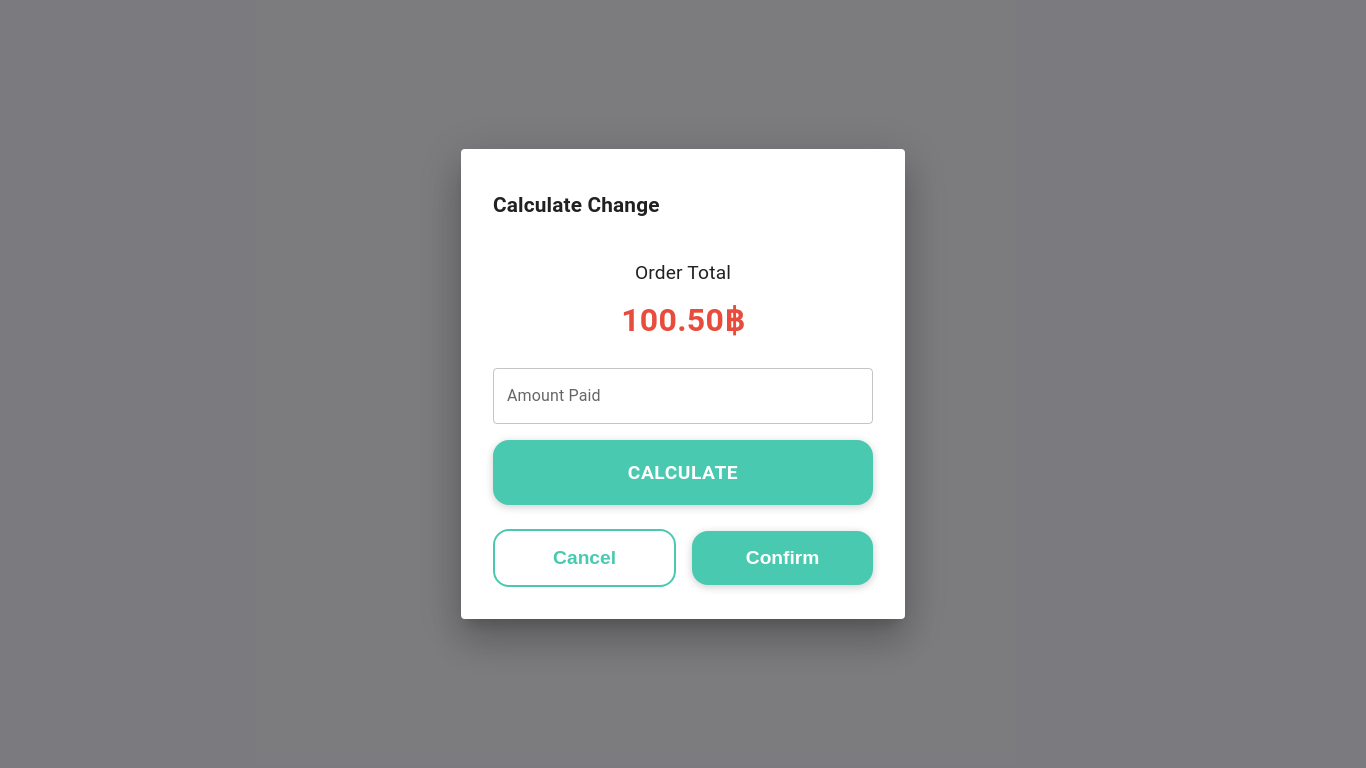
Test: CalculateChange Component › recalculates change when amount paid changes
First calculation
Type "200" into the number field labelled "Amount Paid" at (683, 396), box [493,368,873,424]
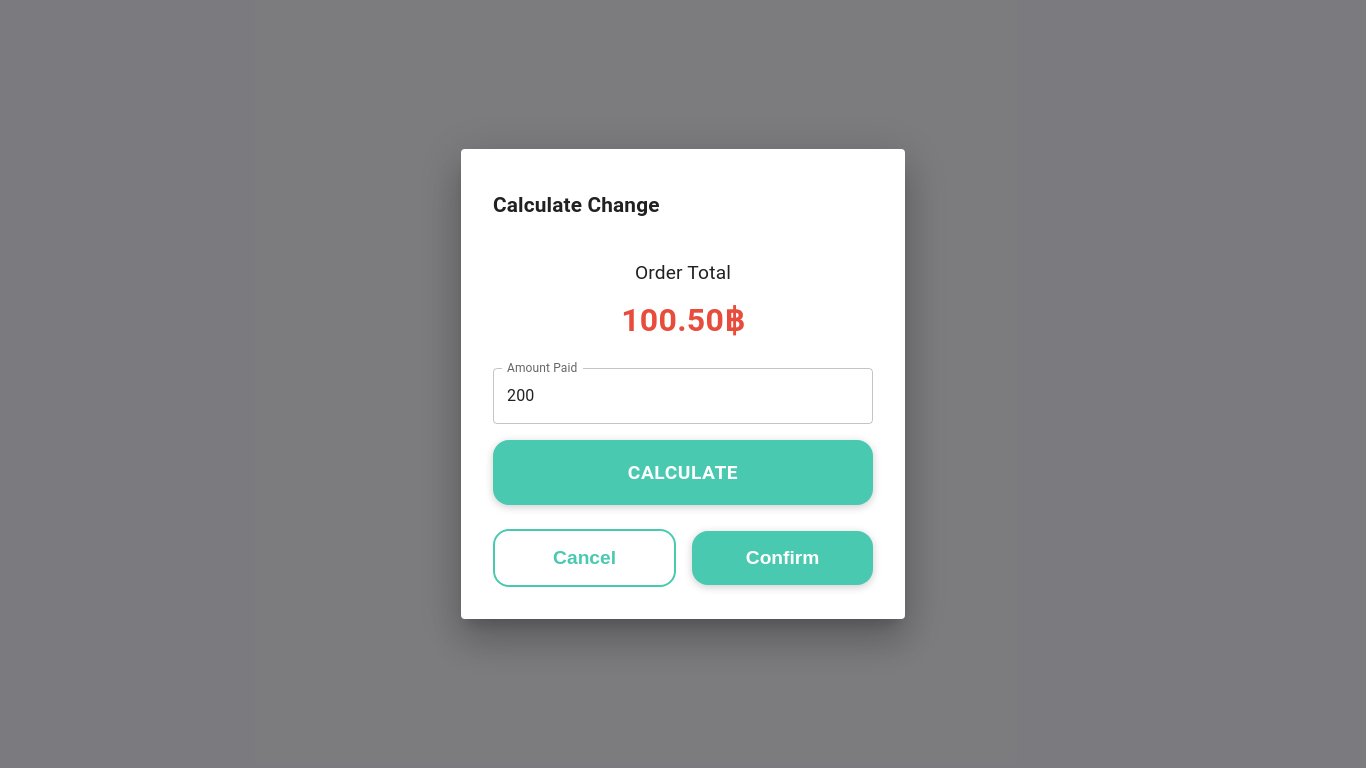
Click the button "Calculate" at (683, 472), box [493,440,873,505]
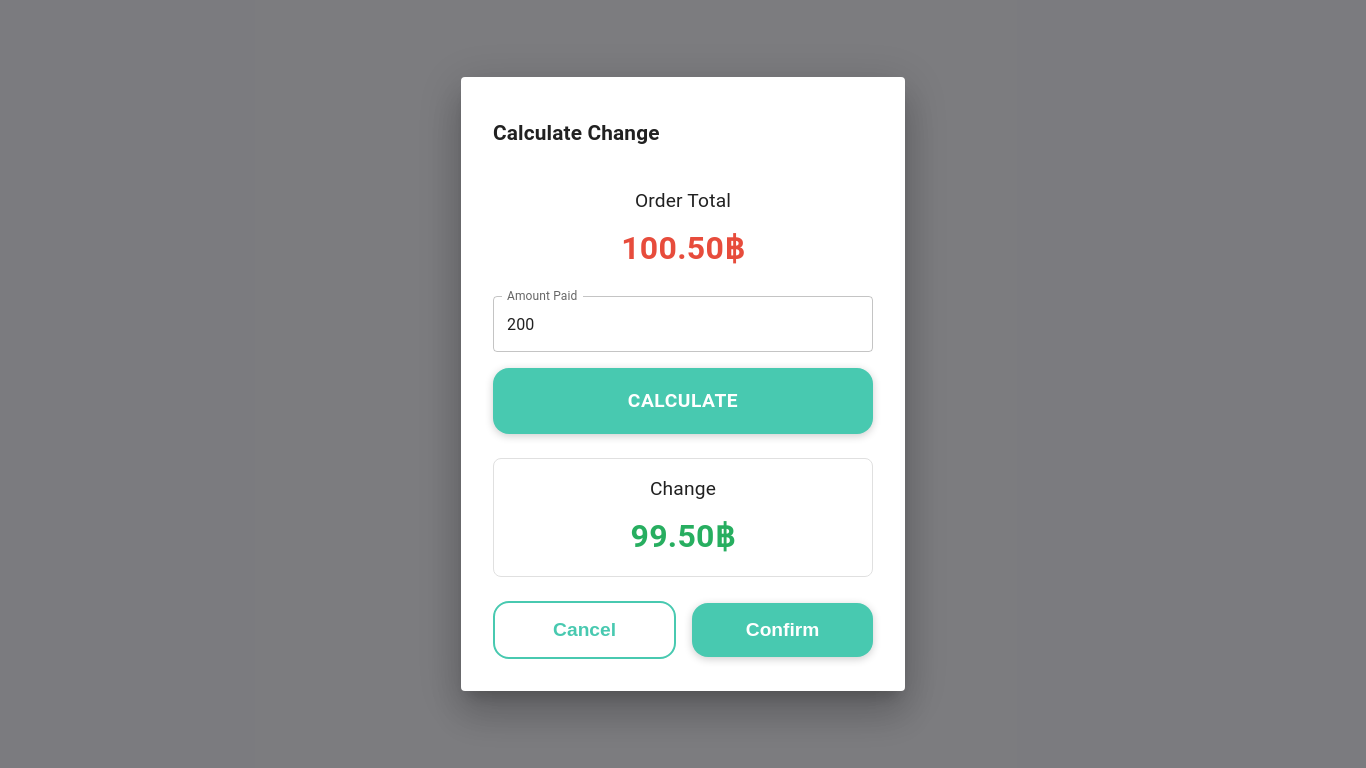
Result: the text "99.50฿" is shown at [630,517,735,555]
Change amount and calculate again
Replace the text in the number field labelled "Amount Paid" with "150" at (683, 324), box [493,296,873,352]
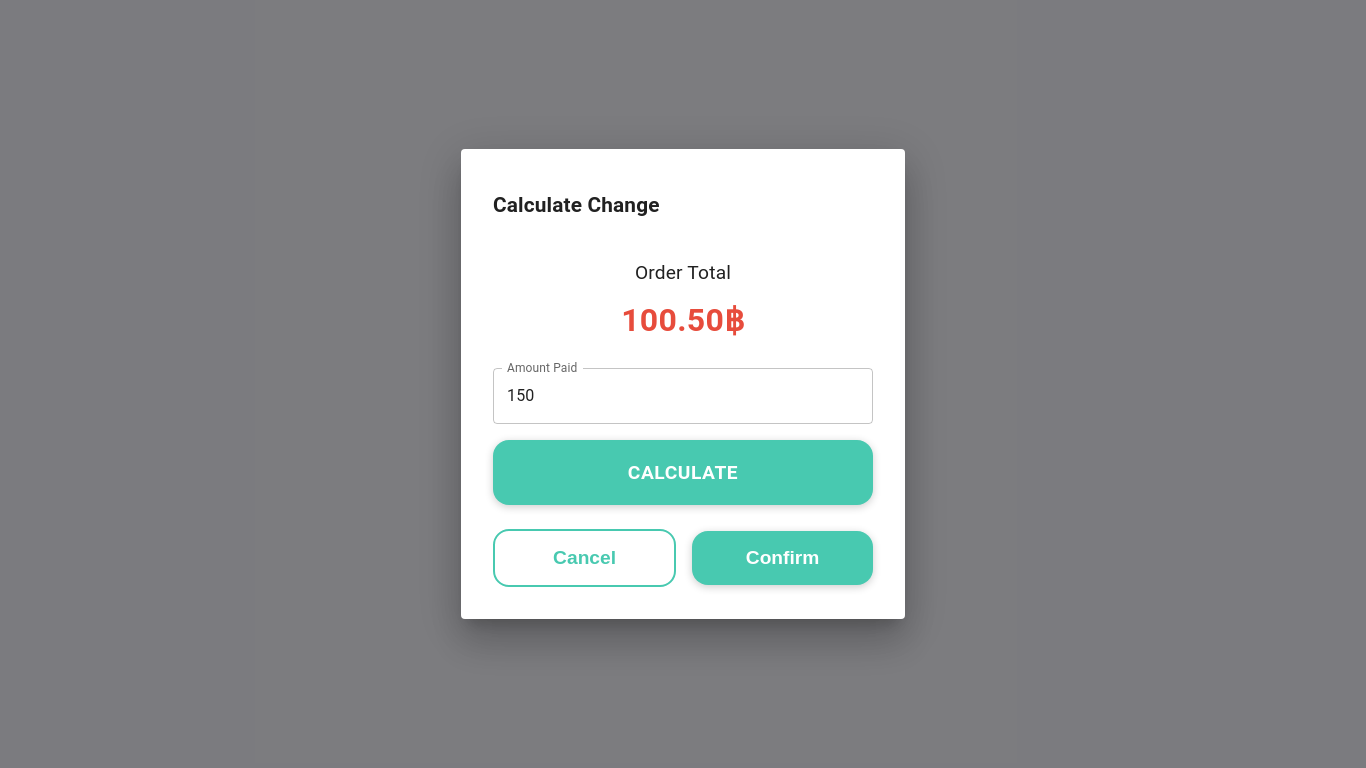
Click the button "Calculate" at (683, 472), box [493,440,873,505]
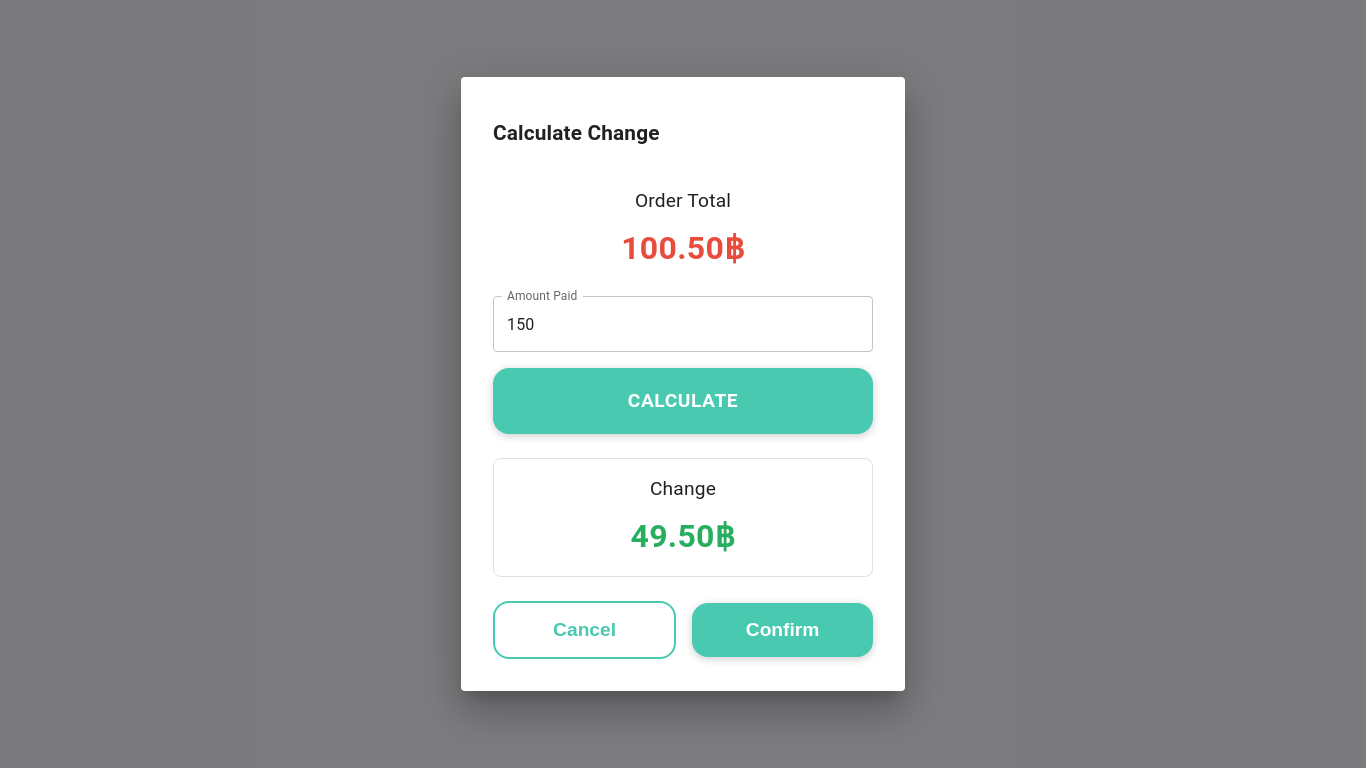
Result: the text "49.50฿" is shown at [630,517,735,555]
